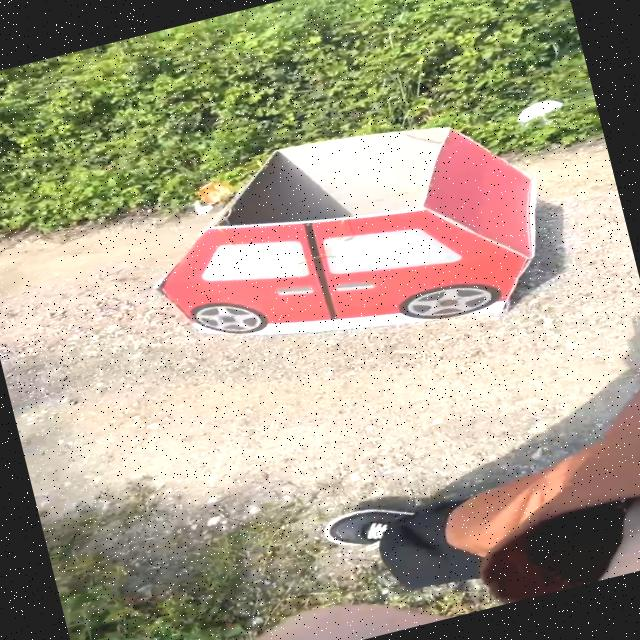red_car: (123, 72, 575, 422)
